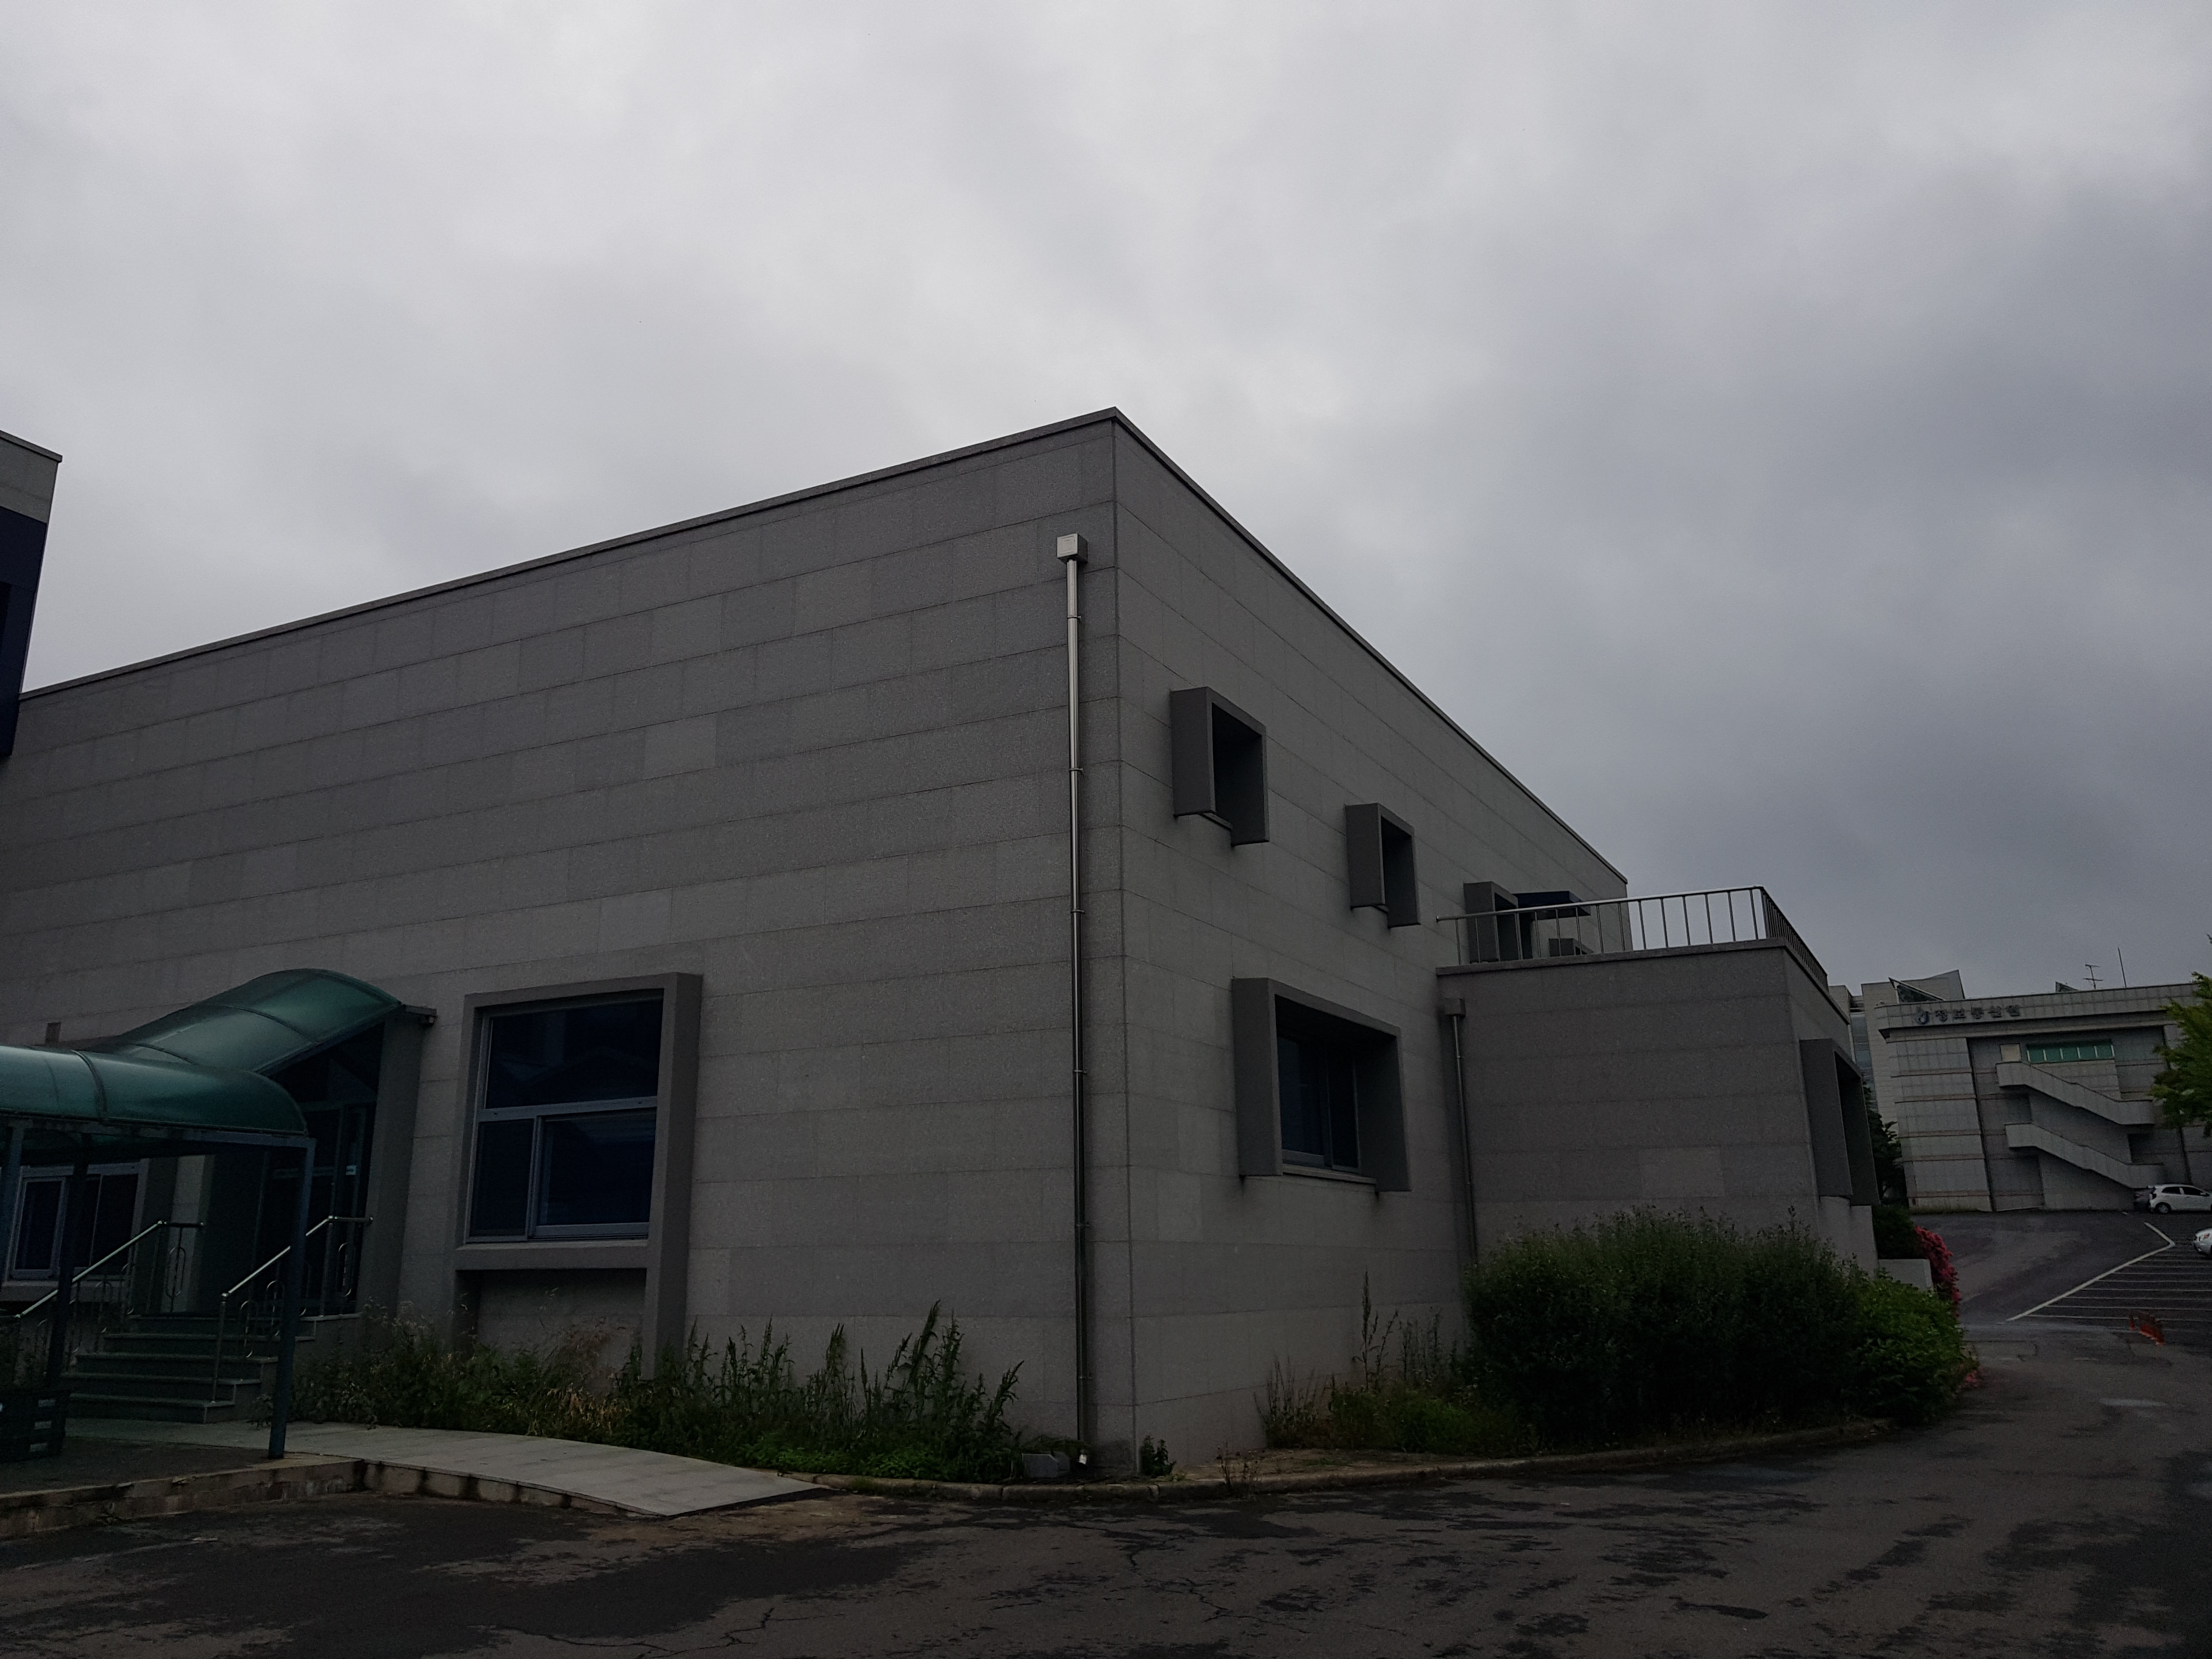College of Social Sciences: (82, 345, 1907, 1527)
